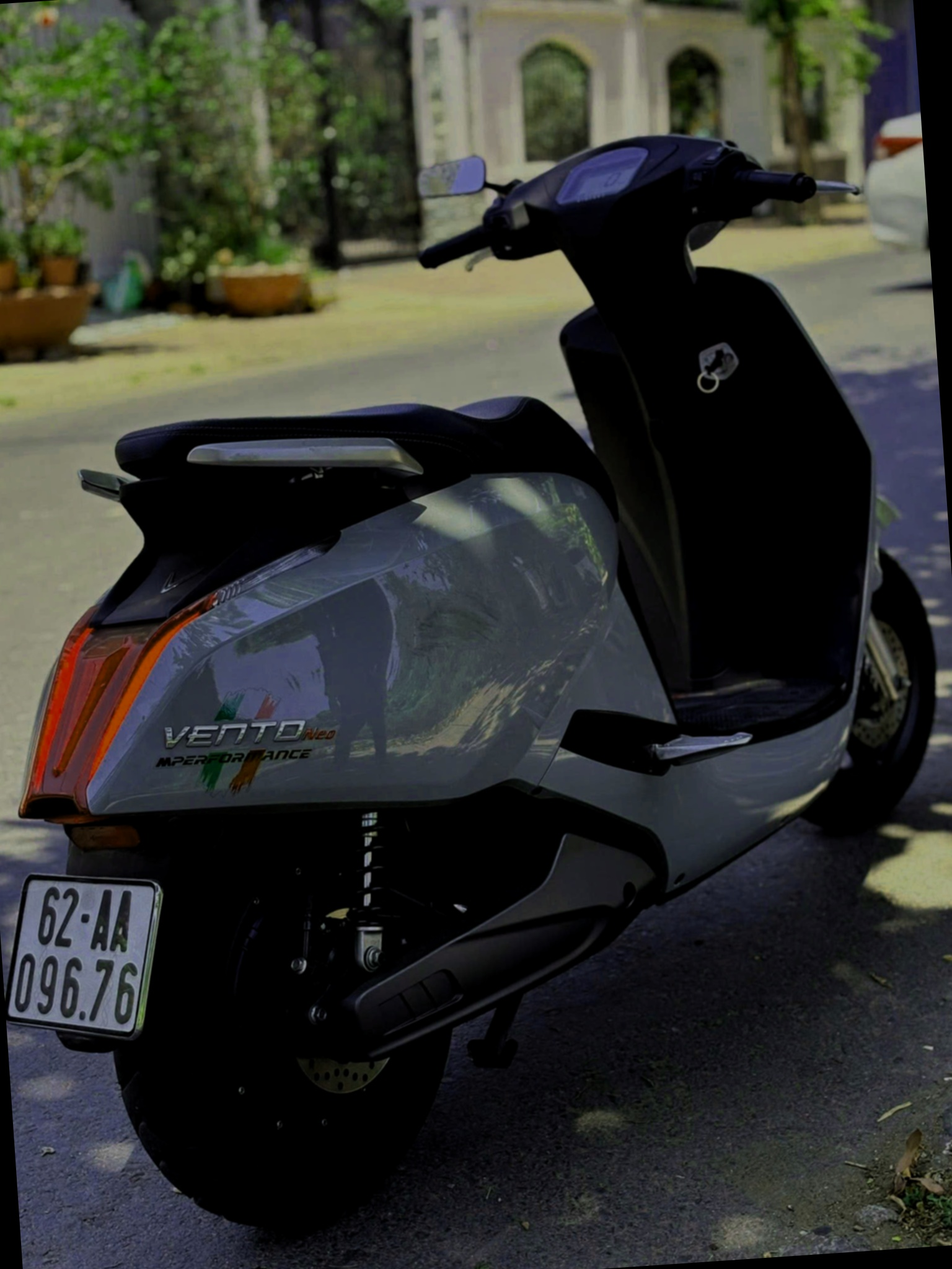Bien-so: (55, 864, 223, 1036)
